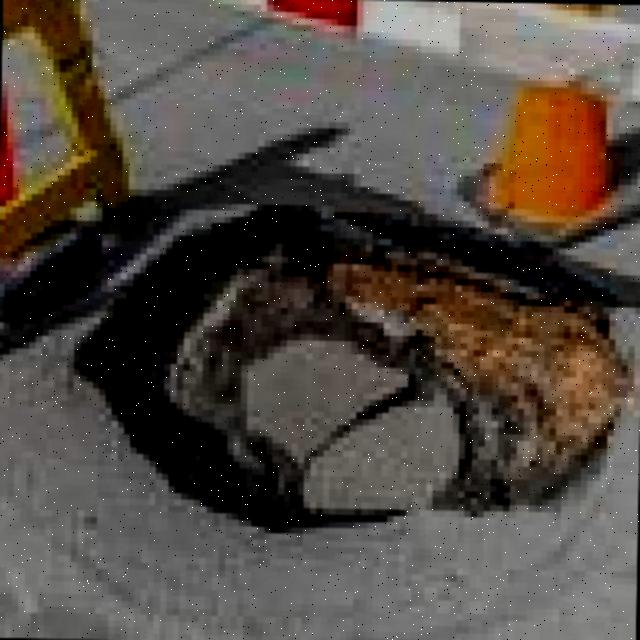pothole: (74, 165, 640, 534)
